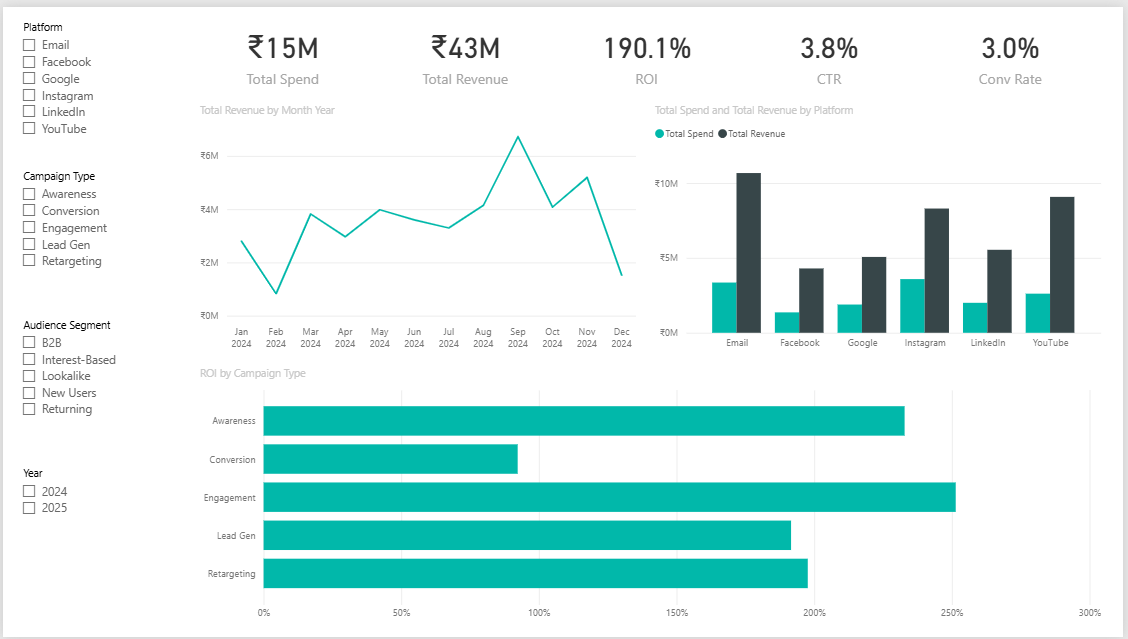

The page's visual inventory and layout, read from the dashboard file:
{"tool":"powerbi","page":{"name":"Campaign Overview","canvas":[1280,720],"ordinal":0},"visuals":[{"type":"slicer","fields":{"Values":["Campaigns.Platform"]},"box":[10,10,200,160],"z":0},{"type":"slicer","fields":{"Values":["Campaigns.Campaign Type"]},"box":[10,180,200,160],"z":1000},{"type":"slicer","fields":{"Values":["Campaigns.Audience Segment"]},"box":[10,350,200,160],"z":2000},{"type":"slicer","fields":{"Values":["DateTable.Year"]},"box":[10,520,200,160],"z":3000},{"type":"card","fields":{"Values":["Campaigns.Total Spend"]},"box":[220,10,200,90],"z":4000},{"type":"card","fields":{"Values":["Campaigns.Total Revenue"]},"box":[428,10,200,90],"z":5000},{"type":"card","fields":{"Values":["Campaigns.ROI"]},"box":[636,10,200,90],"z":6000},{"type":"card","fields":{"Values":["Campaigns.CTR"]},"box":[844,10,200,90],"z":7000},{"type":"card","fields":{"Values":["Campaigns.Conv Rate"]},"box":[1052,10,200,90],"z":8000},{"type":"lineChart","fields":{"Category":["DateTable.Month Year"],"Y":["Campaigns.Total Revenue"]},"box":[220,110,510,290],"z":9000},{"type":"clusteredColumnChart","fields":{"Category":["Campaigns.Platform"],"Y":["Campaigns.Total Spend","Campaigns.Total Revenue"]},"box":[740,110,520,290],"z":10000},{"type":"clusteredBarChart","fields":{"Category":["Campaigns.Campaign Type"],"Y":["Campaigns.ROI"]},"box":[220,410,1040,300],"z":11000}]}

Visuals, with their boxes in screenshot pixels (x1, y1, x2, y2), scaled from the page's 1280x720 canvas onto the 1128x639 screenshot:
slicer - Campaigns.Platform: 9,9,185,151
slicer - Campaigns.Campaign Type: 9,160,185,302
slicer - Campaigns.Audience Segment: 9,311,185,453
slicer - DateTable.Year: 9,462,185,604
card - Campaigns.Total Spend: 194,9,370,89
card - Campaigns.Total Revenue: 377,9,553,89
card - Campaigns.ROI: 560,9,737,89
card - Campaigns.CTR: 744,9,920,89
card - Campaigns.Conv Rate: 927,9,1103,89
lineChart - DateTable.Month Year x Campaigns.Total Revenue: 194,98,643,355
clusteredColumnChart - Campaigns.Platform x Campaigns.Total Spend: 652,98,1110,355
clusteredBarChart - Campaigns.Campaign Type x Campaigns.ROI: 194,364,1110,630
